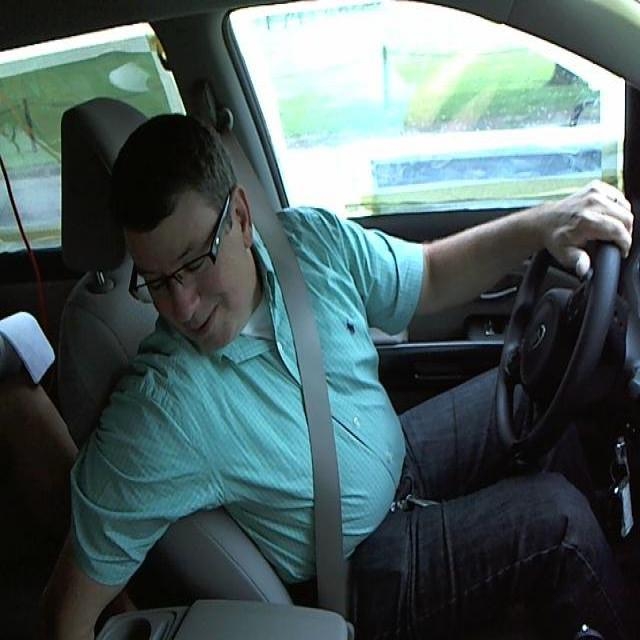seatbelt: (233, 186, 366, 606)
